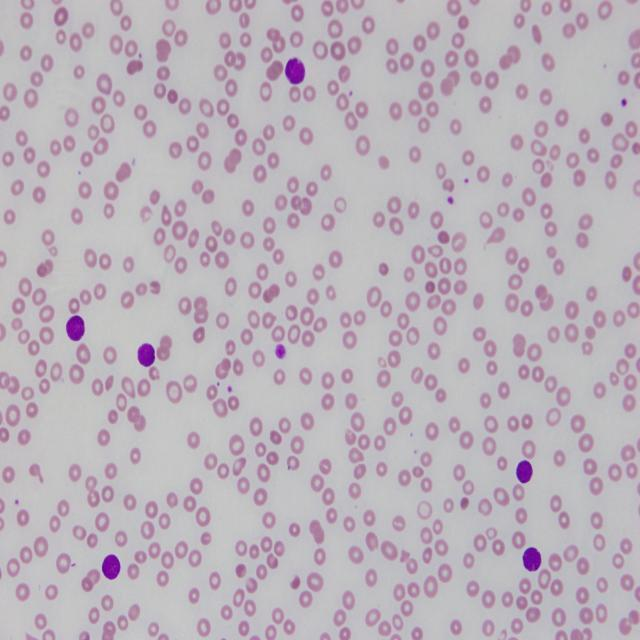cell: (285, 58, 305, 84), (66, 315, 85, 342), (522, 547, 541, 572), (102, 555, 120, 580), (138, 343, 155, 367), (516, 460, 532, 483)
